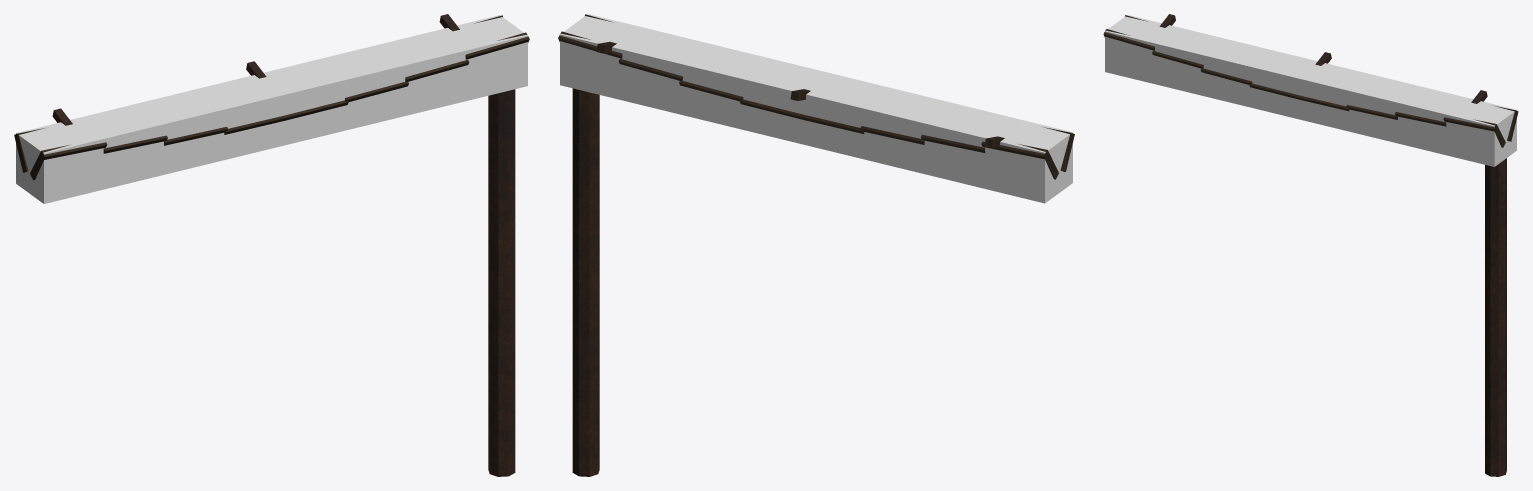
File: ak_gutter_sag_2.glb
The picture shows the model from 3 angles, left to right: view 1: azimuth 30°, elevation 25°; view 2: azimuth 150°, elevation 25°; view 3: azimuth 330°, elevation 25°; orthographic projection. The views are drawn at different scales.
Parts seen in each view (by area): view 1: col_gutter, gutter; view 2: col_gutter, gutter; view 3: col_gutter, gutter.
Boxes of the visible parts, x1,y1,x2,y2 form: col_gutter: (16,15,527,203); gutter: (14,14,529,476); col_gutter: (560,14,1072,203); gutter: (558,14,1074,476); col_gutter: (1105,15,1516,166); gutter: (1103,14,1518,476).
Size of the model in its own units: 2.02 by 1.78 by 0.2689.
Materials: 2 (2 with a texture image).
